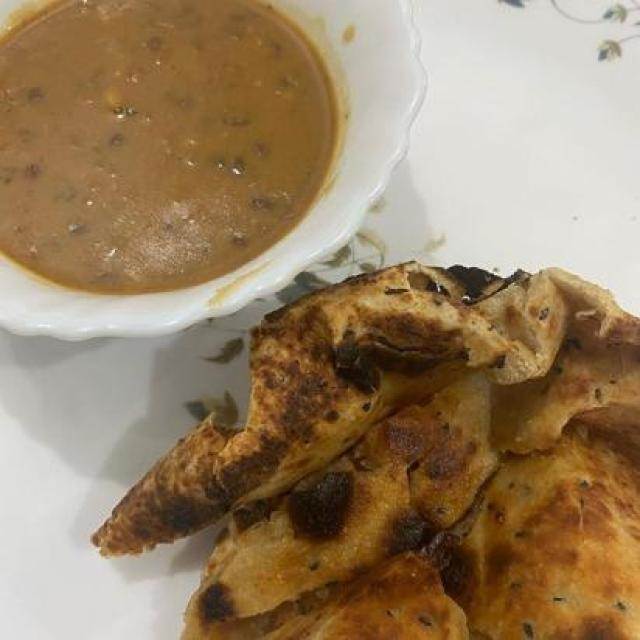dalmakhani: (0, 15, 270, 245)
